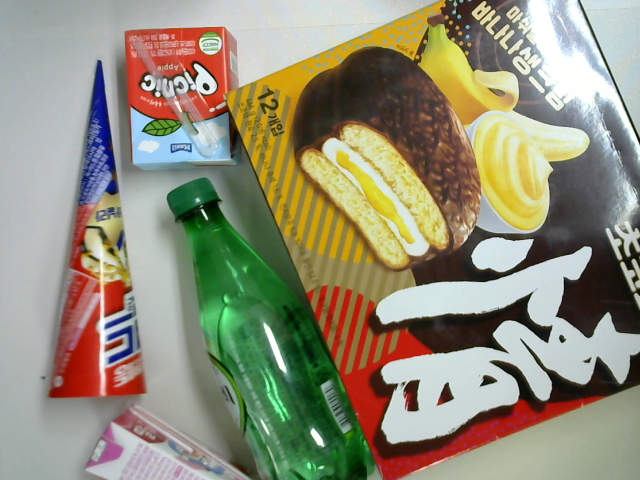Choco_Pie_Banana: (219, 1, 639, 479)
Picnic_Apple: (122, 19, 247, 179)
Strawberry_E_Mong: (74, 402, 264, 480)
Treviraim_500ml: (161, 170, 379, 480)
World_Cone_Banila: (44, 49, 154, 407)
